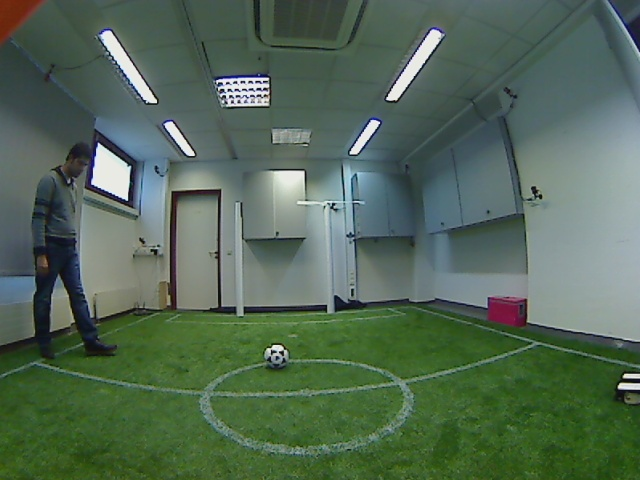ball: (258, 339, 295, 375)
